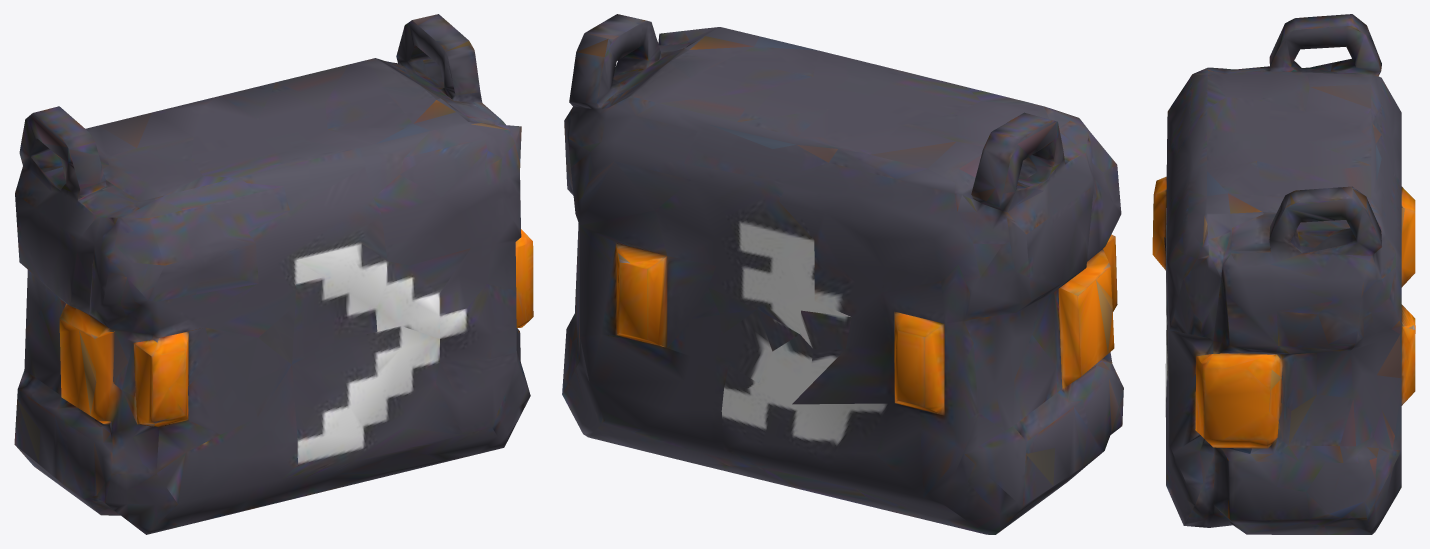
File: ping_bag.glb
3 renders of one model, left to right at view 1: azimuth 30°, elevation 25°; view 2: azimuth 150°, elevation 25°; view 3: azimuth 270°, elevation 25°, orthographic. The views are drawn at different scales.
Visible parts, largest first — view 1: node_0; view 2: node_0; view 3: node_0.
Part boxes in pixels (x1,y1,x2,y2): node_0: (14,14,533,534); node_0: (562,14,1123,534); node_0: (1152,14,1415,534).
Bounding box in the file's own units: 1 × 0.7951 × 0.5565.
Materials: 1 (1 with a texture image).
